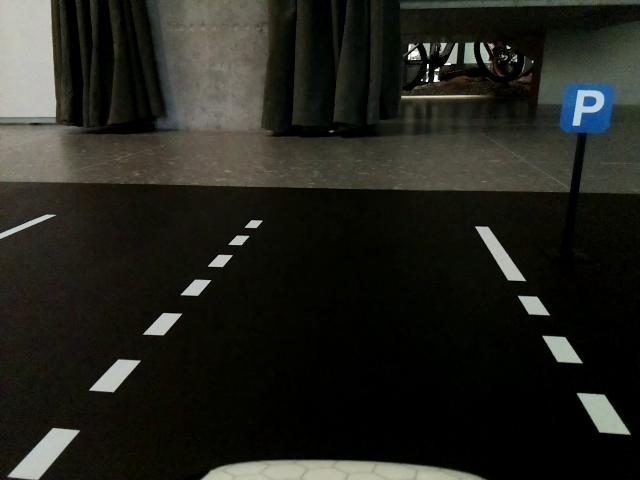park: (564, 88, 611, 133)
